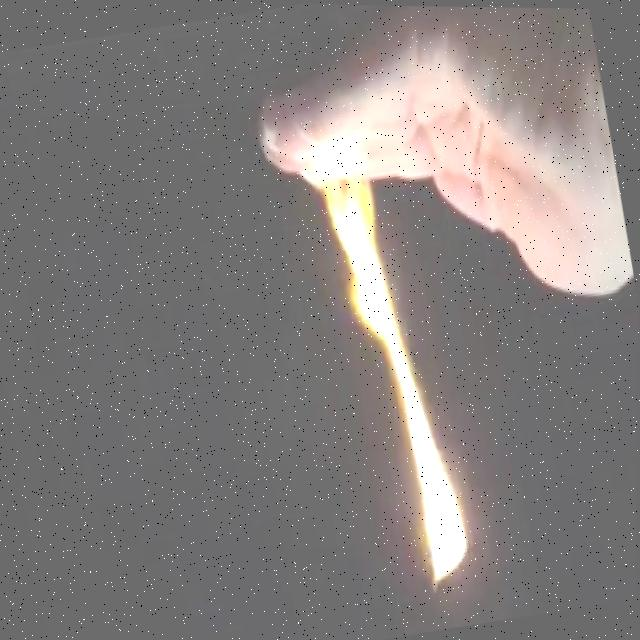Fire: (292, 115, 485, 609)
